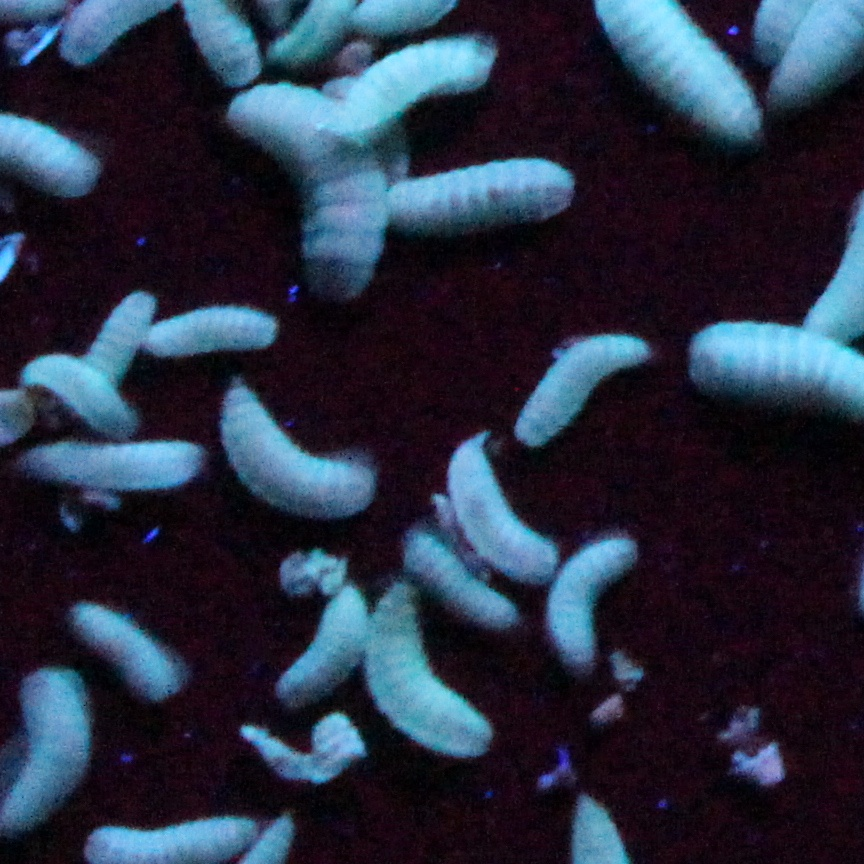larve: (224, 75, 384, 295), (364, 582, 486, 755), (218, 388, 380, 517), (335, 33, 495, 142), (444, 437, 558, 584), (389, 157, 589, 235), (9, 662, 91, 844), (509, 344, 651, 442), (551, 537, 635, 671), (406, 531, 518, 624), (73, 602, 182, 695), (15, 355, 138, 437), (13, 448, 200, 493), (282, 584, 353, 700), (149, 308, 280, 360), (98, 297, 138, 373)
